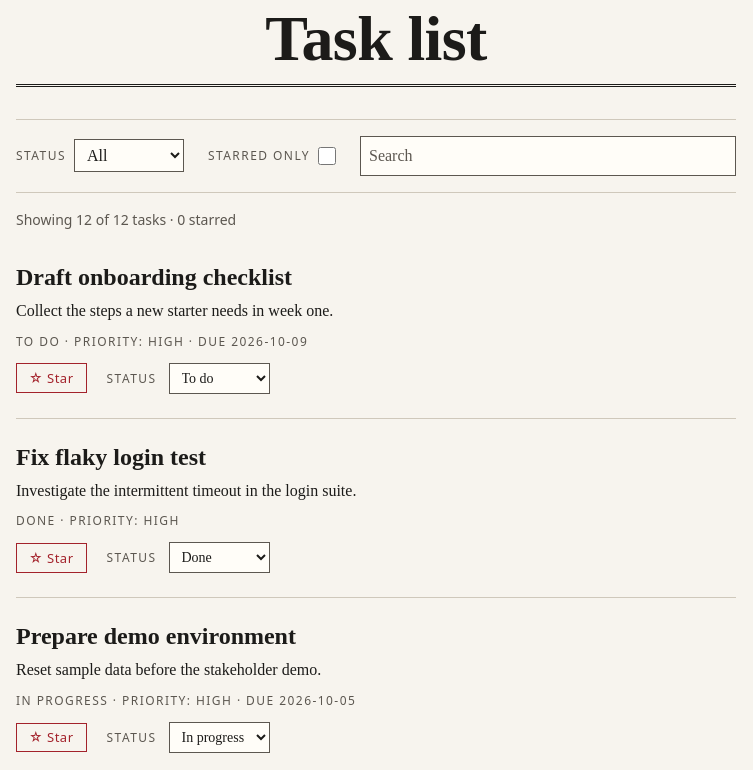
it: App › shows the empty-state message when the combined filters match nothing (AC5)
Click the checkbox labelled "Starred only".
click(327, 156)  # box x1=318 y1=147 x2=336 y2=165
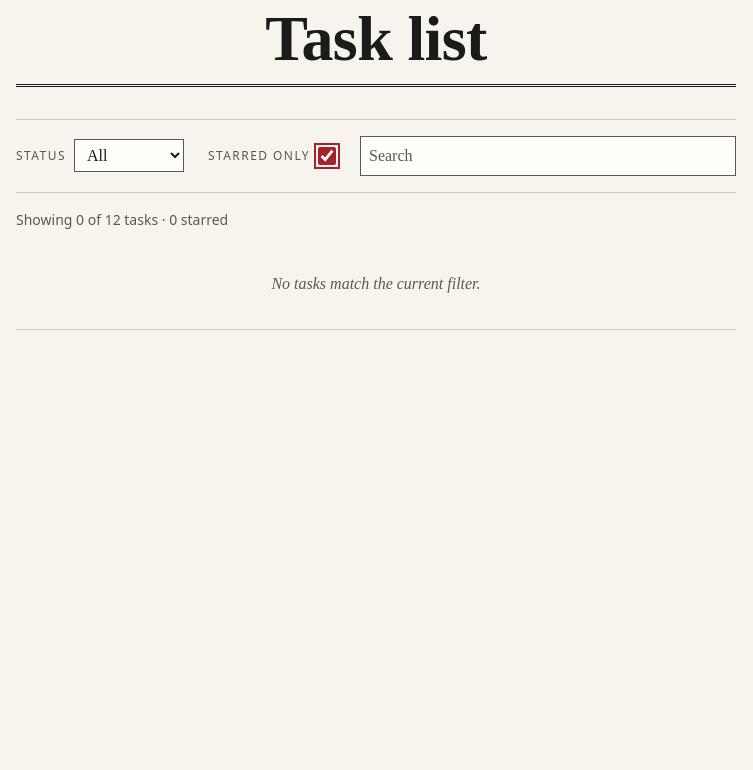
Result: the message reads "No tasks match the current filter." at x1=271 y1=275 x2=481 y2=292
